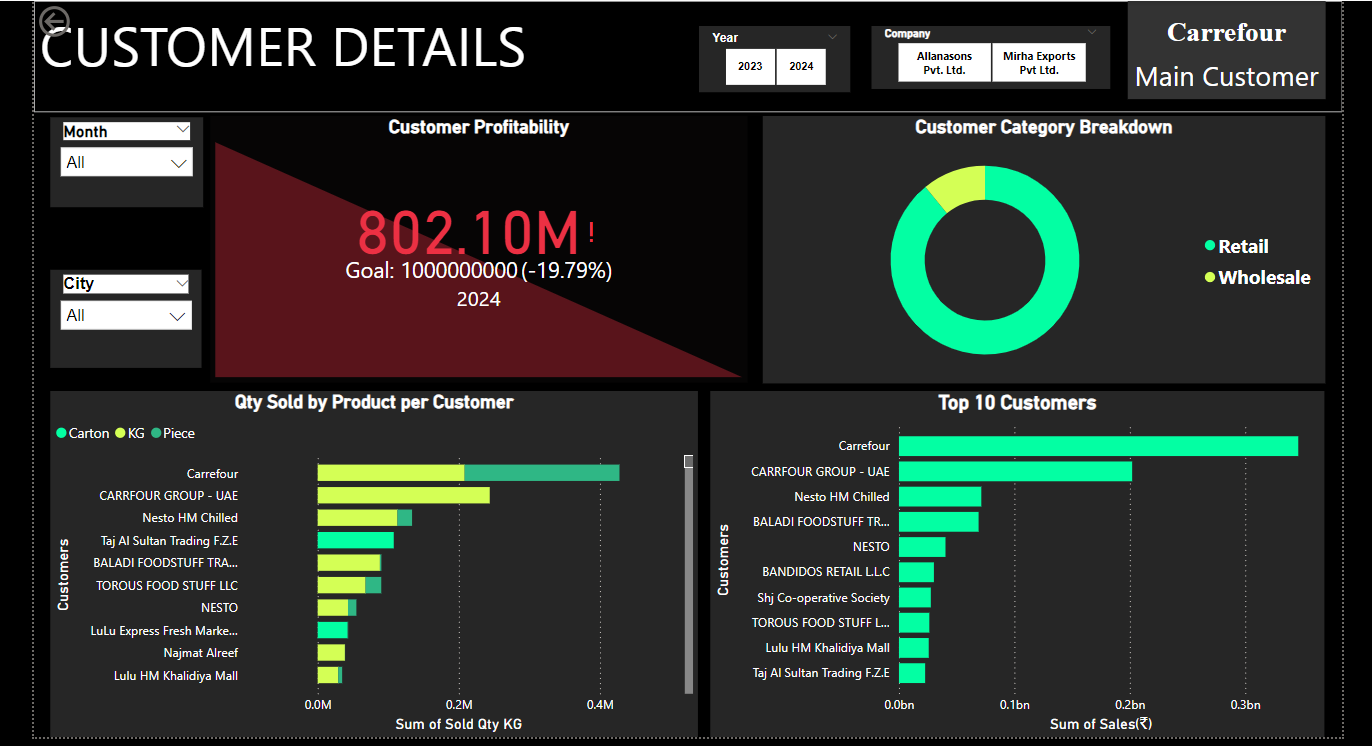

What the dashboard file says about the page in this screenshot:
{"tool":"powerbi","page":{"name":"Customer Details","canvas":[1280,720],"ordinal":1},"visuals":[{"type":"textbox","box":[0,0,1280.3,108.8],"z":0},{"type":"slicer","fields":{"Values":["sales.Month"]},"box":[16.5,113.9,149.6,87.8],"z":1000},{"type":"slicer","fields":{"Values":["sales.Year"]},"box":[650.4,24.7,148.2,64.5],"z":2000},{"type":"card","fields":{"Values":["sales.Main Customer"]},"box":[1070.3,0,193.5,96.1],"z":3000},{"type":"slicer","fields":{"Values":["sales.Company"]},"box":[819.2,24.7,233.3,61.7],"z":4000},{"type":"slicer","fields":{"Values":["sales.City"]},"box":[16.5,263.5,148.2,96.1],"z":5000},{"type":"actionButton","box":[0,0,100,40],"z":6000},{"type":"donutChart","title":"Customer Category Breakdown","fields":{"Y":["Sum(sales.Sales(₹))"],"Category":["sales.Customer Category"]},"box":[712.9,112.5,550.3,261.7],"z":7000},{"type":"barChart","title":"Qty Sold by Product per Customer ","fields":{"Category":["sales.Customers"],"Y":["Sum(sales.Sold Qty KG)"],"Series":["sales.UOM"]},"box":[16.5,381.5,634,338.9],"z":8000},{"type":"kpi","title":"Customer Profitability","fields":{"Indicator":["Sum(sales.Sales(₹))"],"TrendLine":["sales.Year"],"Goal":["sales.Target"]},"box":[172.9,112.5,525.6,260.7],"z":9000},{"type":"clusteredBarChart","title":"Top 10 Customers","fields":{"Category":["sales.Customers"],"Y":["Sum(sales.Sales(₹))"]},"box":[661.4,381.5,601,338.9],"z":10000}]}

Visuals, with their boxes on the page's 1280x720 design canvas (x1, y1, x2, y2). These are canvas units, not pixel positions in the 1372x746 screenshot, which may show the page scaled, cropped or inside an application window:
textbox: box(0, 0, 1280, 109)
slicer - sales.Month: box(16, 114, 166, 202)
slicer - sales.Year: box(650, 25, 799, 89)
card - sales.Main Customer: box(1070, 0, 1264, 96)
slicer - sales.Company: box(819, 25, 1052, 86)
slicer - sales.City: box(16, 264, 165, 360)
actionButton: box(0, 0, 100, 40)
"Customer Category Breakdown" donutChart: box(713, 112, 1263, 374)
"Qty Sold by Product per Customer " barChart: box(16, 382, 650, 720)
"Customer Profitability" kpi: box(173, 112, 698, 373)
"Top 10 Customers" clusteredBarChart: box(661, 382, 1262, 720)
